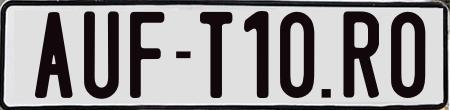0: (279, 9, 319, 97), (391, 11, 425, 99)
1: (243, 8, 274, 99)
A: (32, 9, 71, 96)
F: (130, 11, 167, 102)
R: (341, 10, 379, 102)
T: (200, 9, 237, 101)
U: (84, 9, 121, 100)
